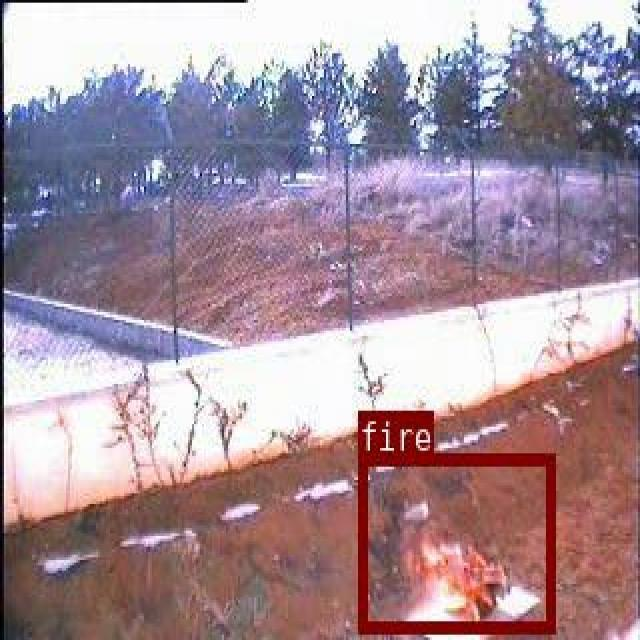fire: (357, 452, 554, 631)
